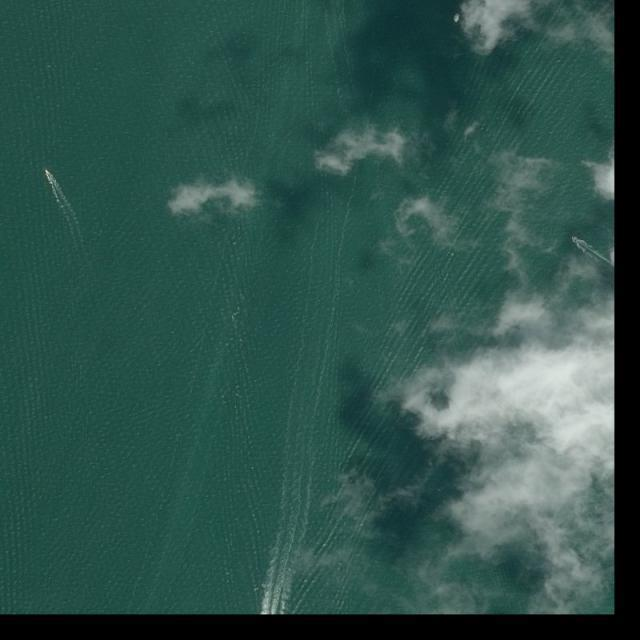ship: (452, 12, 462, 23), (570, 235, 577, 241), (44, 169, 49, 174)
